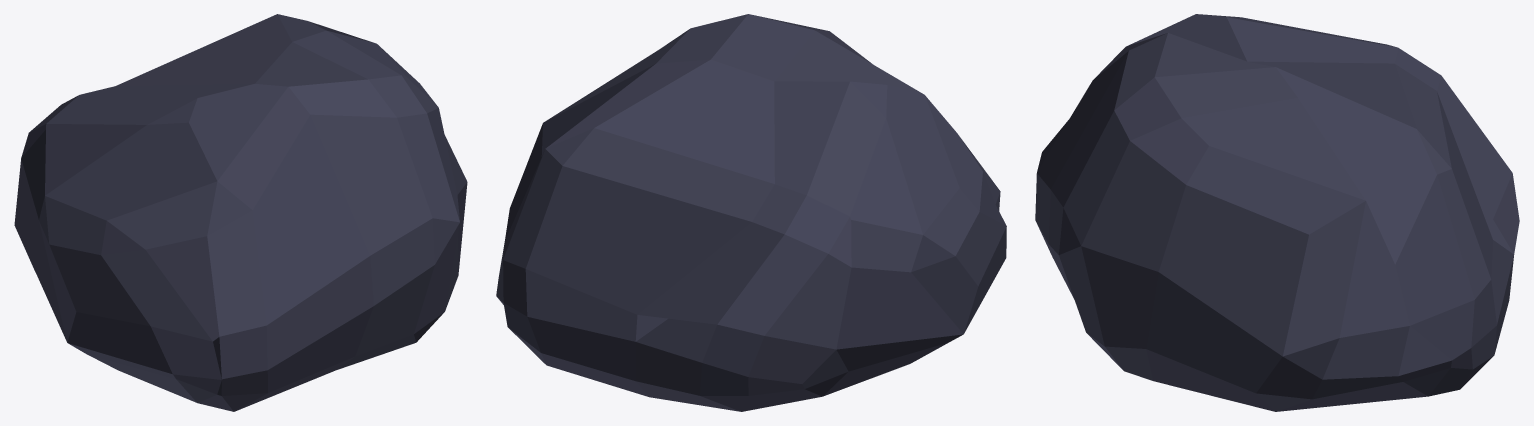
The model's file is Piedra4.fbx.
3 renders of one model, left to right at view 1: azimuth 30°, elevation 25°; view 2: azimuth 150°, elevation 25°; view 3: azimuth 270°, elevation 25°, orthographic. The views are drawn at different scales.
Parts seen in each view (by area): view 1: Cube; view 2: Cube; view 3: Cube.
Part boxes in pixels (<box>): Cube: <box>14,14,467,411</box>; Cube: <box>496,14,1006,411</box>; Cube: <box>1035,14,1519,411</box>.
Size of the model in its own units: 154 by 105 by 144.
